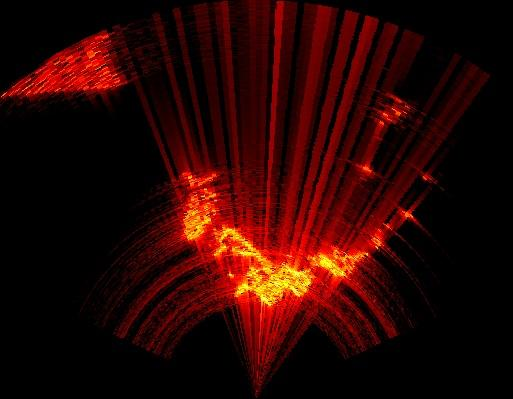shipwreck: (216, 226, 368, 305), (184, 175, 216, 240), (372, 237, 381, 248)
